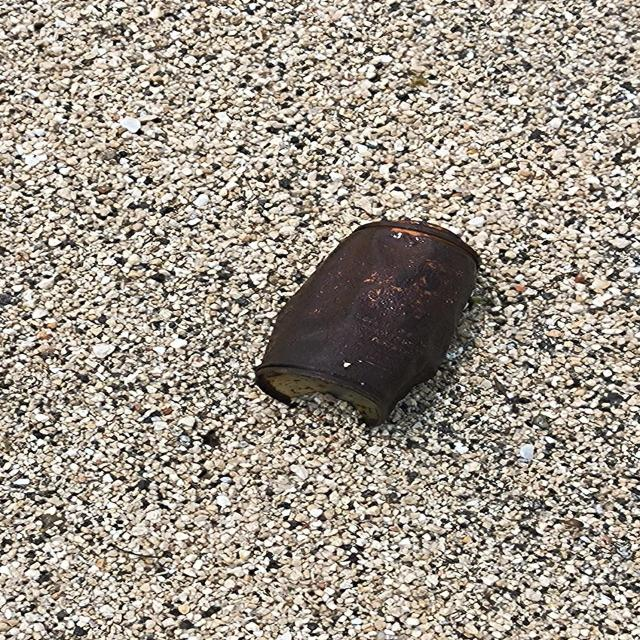metal_waste: (254, 220, 483, 429)
